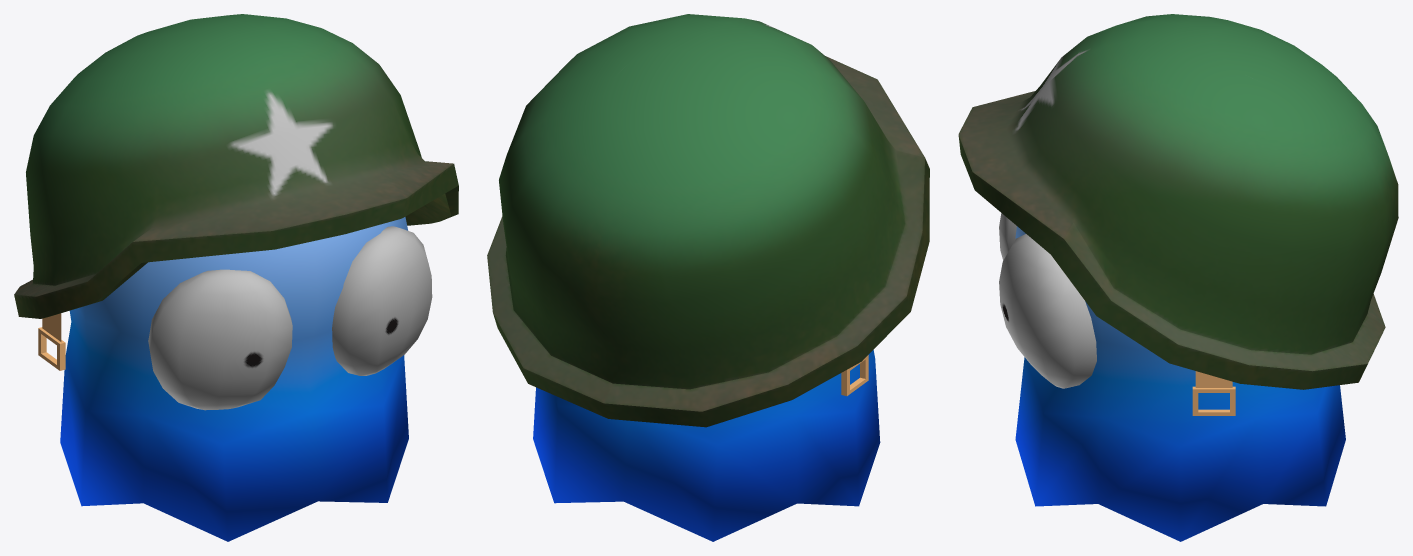
File: Personaje4.fbx
3 renders of one model, left to right at view 1: azimuth 30°, elevation 25°; view 2: azimuth 150°, elevation 25°; view 3: azimuth 270°, elevation 25°, orthographic.
Parts seen in each view (by area): view 1: Character.003, Helmet.003, Correas.003; view 2: Helmet.003, Character.003, Correas.003; view 3: Helmet.003, Character.003, Correas.003.
Boxes of the visible parts, x1=… form: Character.003: x1=60, y1=217, x2=432, y2=541; Helmet.003: x1=14, y1=14, x2=458, y2=318; Correas.003: x1=38, y1=313, x2=65, y2=370; Helmet.003: x1=487, y1=14, x2=929, y2=427; Character.003: x1=533, y1=350, x2=880, y2=541; Correas.003: x1=841, y1=355, x2=868, y2=396; Helmet.003: x1=958, y1=14, x2=1398, y2=389; Character.003: x1=999, y1=213, x2=1345, y2=541; Correas.003: x1=1192, y1=371, x2=1235, y2=415.
Bounding box in the file's own units: 138 × 143 × 132.
